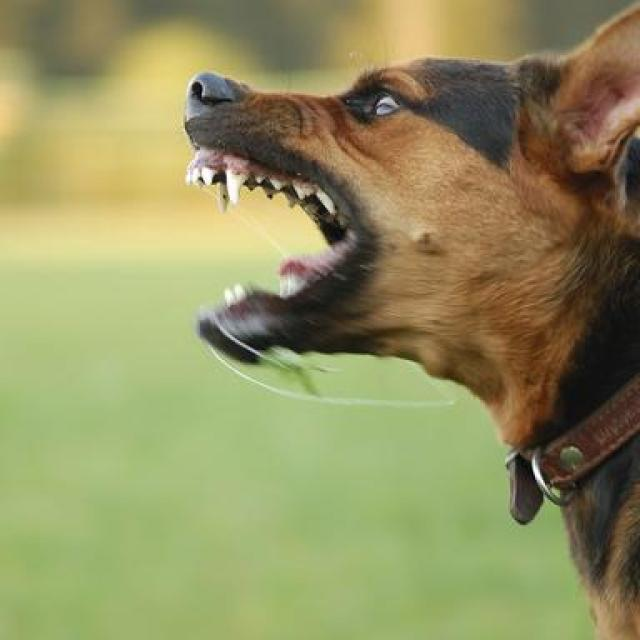angry: (138, 28, 640, 420)
